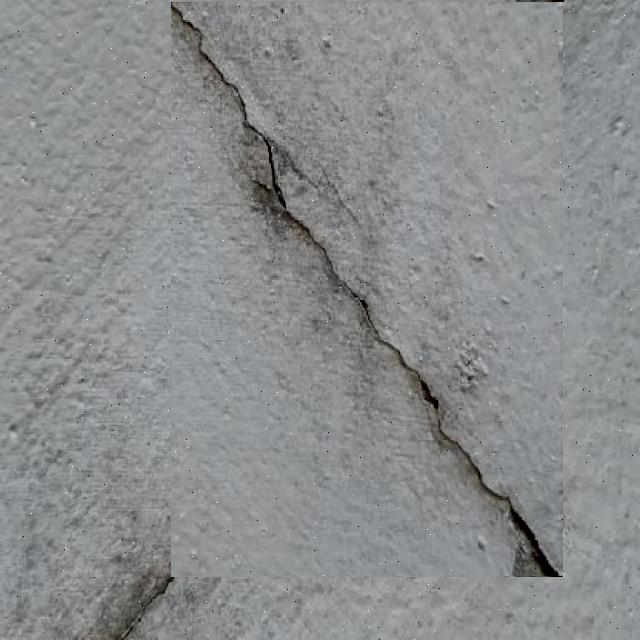crack: (167, 0, 561, 578)
